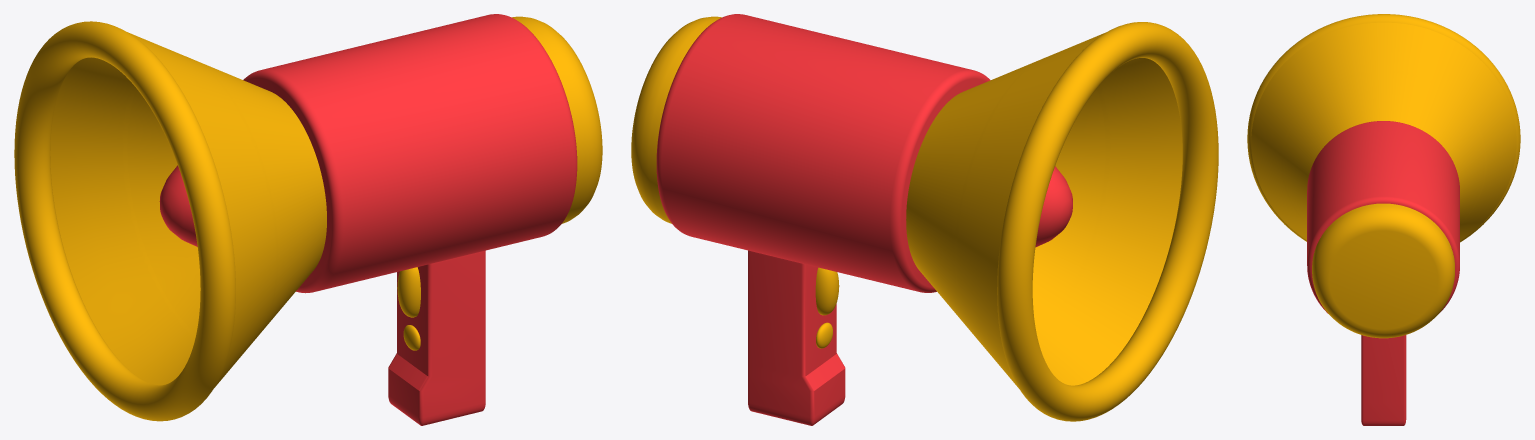
The model's file is speeker_2.glb.
3 renders of one model, left to right at view 1: azimuth 30°, elevation 25°; view 2: azimuth 150°, elevation 25°; view 3: azimuth 270°, elevation 25°, orthographic. The views are drawn at different scales.
Visible parts, largest first — view 1: Cylinder.004, Cube.001; view 2: Cylinder.004, Cube.001; view 3: Cylinder.004.
Boxes of the visible parts, box(x1,y1,x2,y2) form: Cylinder.004: box(14, 14, 602, 425); Cube.001: box(397, 267, 420, 350); Cylinder.004: box(631, 14, 1218, 425); Cube.001: box(815, 267, 839, 348); Cylinder.004: box(1247, 14, 1520, 425).
Bounding box in the file's own units: 25.2 × 23.97 × 19.83.
